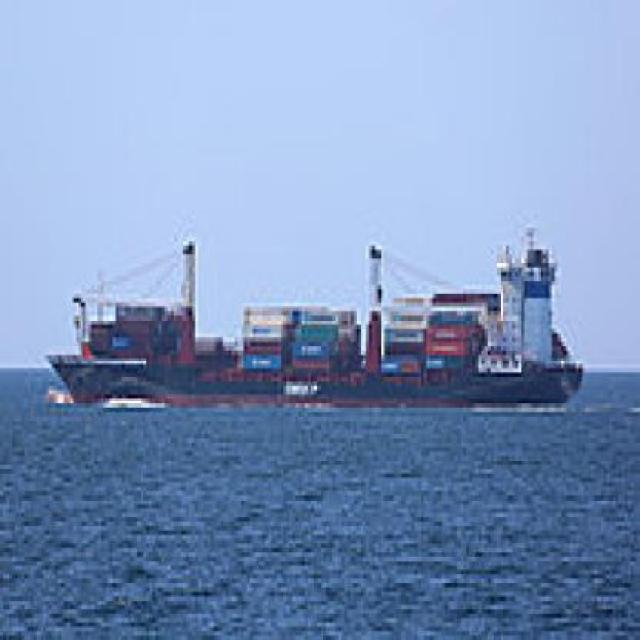container: (37, 203, 602, 430)
